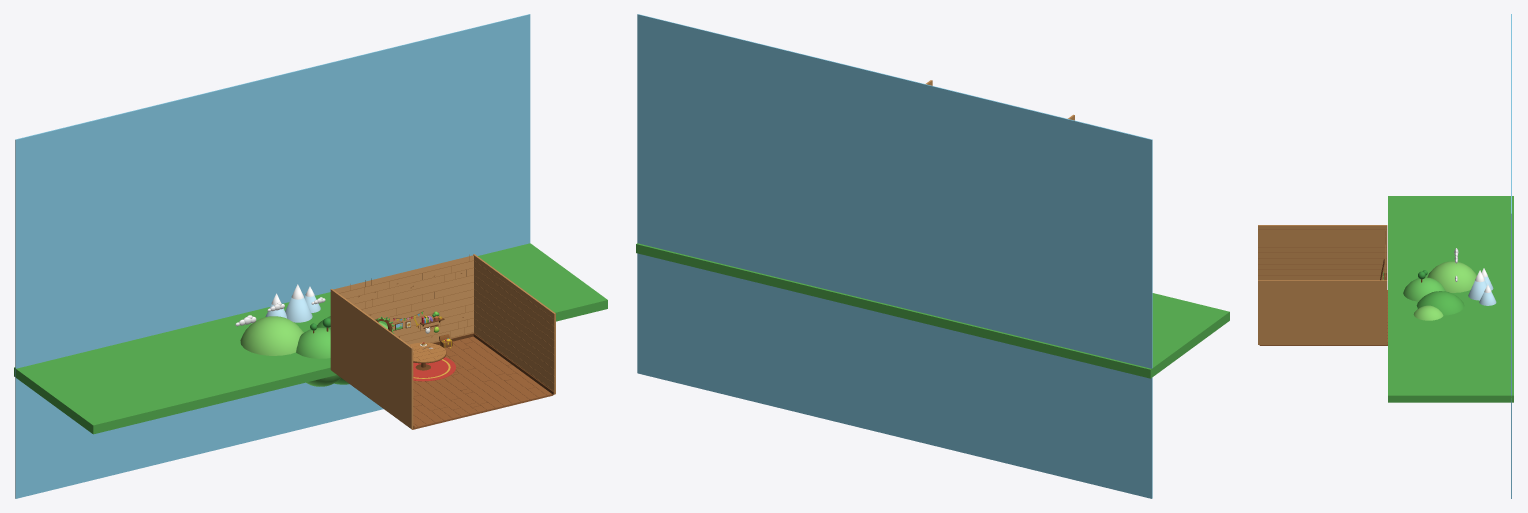
Rendered from room.glb.
3 renders of one model, left to right at view 1: azimuth 30°, elevation 25°; view 2: azimuth 150°, elevation 25°; view 3: azimuth 270°, elevation 25°, orthographic. The views are drawn at different scales.
Visible parts, largest first — view 1: Outside, Walls, Floor, Table; view 2: Outside; view 3: Outside, Walls.
Part boxes in pixels (left/top/right/bottom): Outside: left=14, top=14, right=607, bottom=498; Walls: left=330, top=254, right=555, bottom=429; Floor: left=339, top=336, right=553, bottom=429; Table: left=409, top=342, right=446, bottom=370; Outside: left=636, top=14, right=1229, bottom=498; Outside: left=1388, top=14, right=1513, bottom=498; Walls: left=1258, top=225, right=1387, bottom=344.
Bounding box in the file's own units: 60 × 40 × 32.52.
